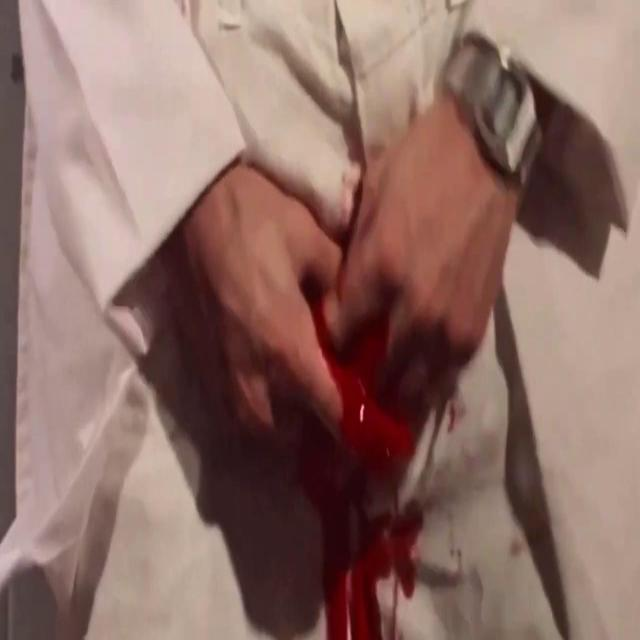flood: (284, 254, 431, 640)
